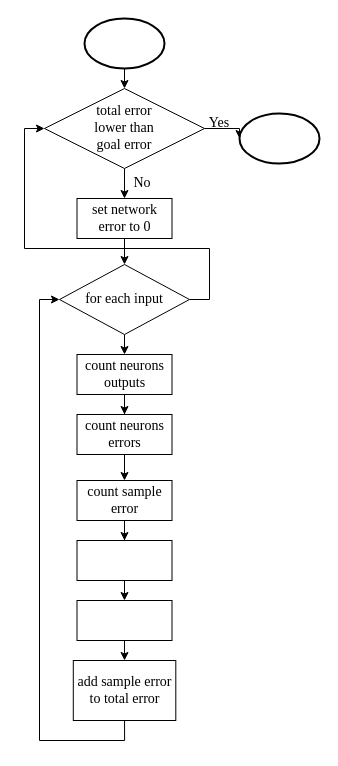
This 338x766 diagram has some shape labels left out. The centre of each missing label's shape, as x and y in pixels:
adjust parameters: (x=124, y=620)
count derivations: (x=124, y=560)
End: (x=279, y=138)
Start: (x=124, y=43)
